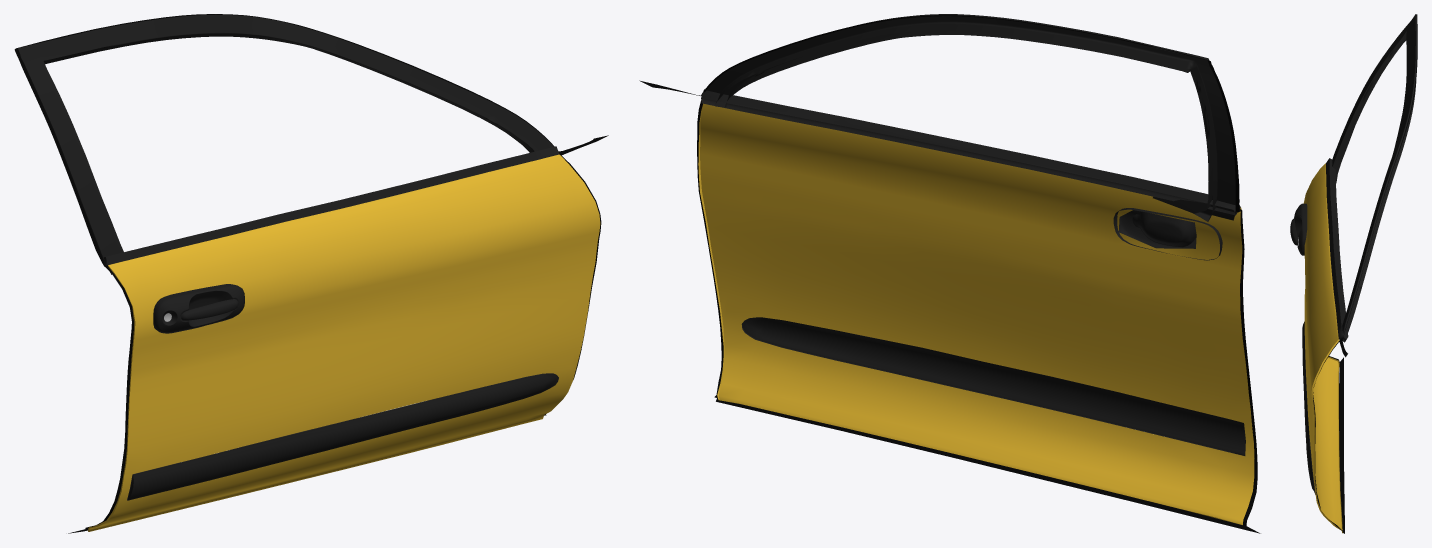
The picture shows the model from 3 angles, left to right: view 1: azimuth 30°, elevation 25°; view 2: azimuth 150°, elevation 25°; view 3: azimuth 270°, elevation 25°; orthographic projection. The views are drawn at different scales.
Parts seen in each view (by area): view 1: P353_20_281B_R_1_DaS_P353_20_281B_R, P353_20_281B_R_P353_20_281B_R_2_D, P353_20_281B_R_P353_20_281B_R_3_D; view 2: P353_20_281B_R_1_DaS_P353_20_281B_R, P353_20_281B_R_P353_20_281B_R_2_D, P353_20_281B_R_P353_20_281B_R_3_D, P353_20_281B_R_1_DaS_P353_20_281B_R_E; view 3: P353_20_281B_R_1_DaS_P353_20_281B_R, P353_20_281B_R_P353_20_281B_R_2_D, P353_20_281B_R_P353_20_281B_R_3_D, P353_20_281B_R_1_DaS_P353_20_281B_R_E.
Part boxes in pixels (<box>): P353_20_281B_R_1_DaS_P353_20_281B_R: <box>88,154,600,531</box>; P353_20_281B_R_P353_20_281B_R_2_D: <box>17,14,559,500</box>; P353_20_281B_R_P353_20_281B_R_3_D: <box>14,14,608,533</box>; P353_20_281B_R_1_DaS_P353_20_281B_R: <box>700,104,1254,524</box>; P353_20_281B_R_P353_20_281B_R_2_D: <box>701,14,1245,455</box>; P353_20_281B_R_P353_20_281B_R_3_D: <box>639,15,1260,533</box>; P353_20_281B_R_1_DaS_P353_20_281B_R_E: <box>698,103,1241,523</box>; P353_20_281B_R_1_DaS_P353_20_281B_R: <box>1303,163,1342,529</box>; P353_20_281B_R_P353_20_281B_R_2_D: <box>1290,14,1416,494</box>; P353_20_281B_R_P353_20_281B_R_3_D: <box>1313,14,1417,533</box>; P353_20_281B_R_1_DaS_P353_20_281B_R_E: <box>1311,339,1342,533</box>.
Size of the model in its own units: 152 by 119 by 40.21.
